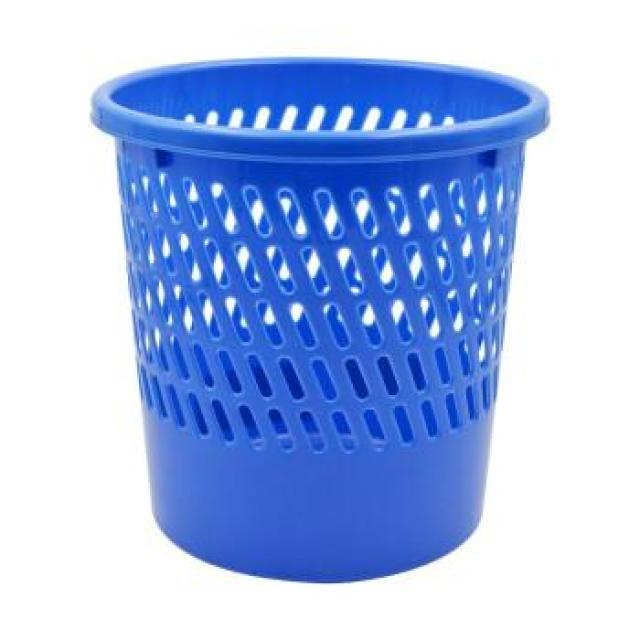dustbin: (90, 48, 562, 588)
